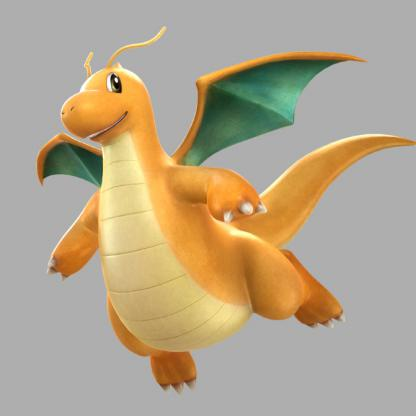Dragonite: (18, 34, 416, 401)
